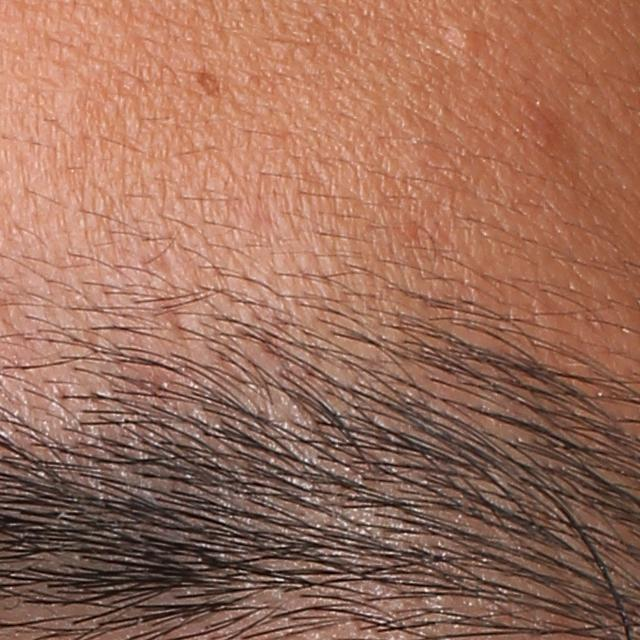comedo: (444, 23, 483, 64)
nevus: (187, 61, 228, 102)
